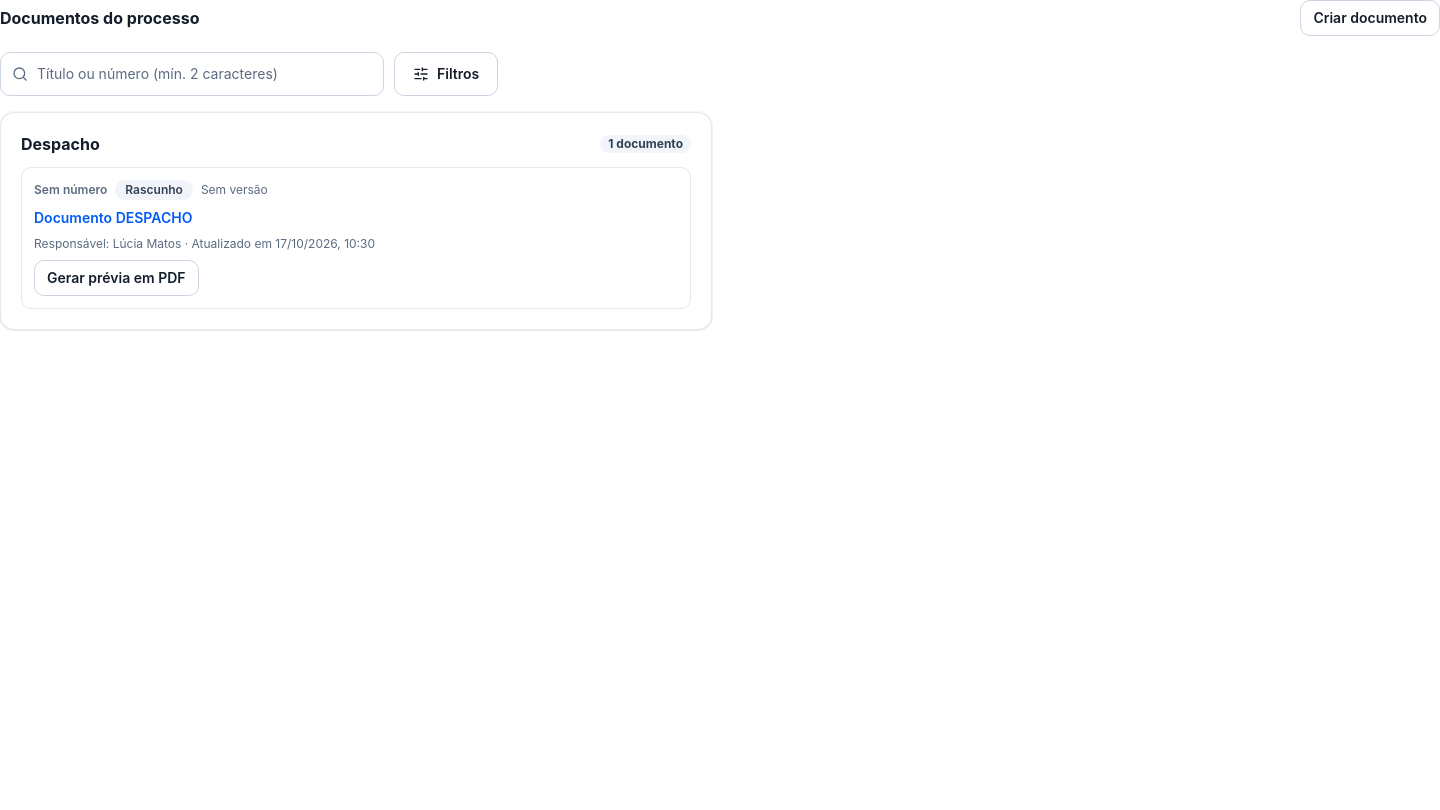
Test: SCR-006 · aba "Documentos" (US-062) › Responsivo (< 768 px): o menu "Criar documento" abre como folha inferior
The width and height of the screenshot is (1440, 810).
Check: the heading "Despacho" is shown, box top-left (21, 133), bottom-right (100, 155)
Click the button "Criar documento". click: coordinates (1370, 18)
box: top-left (1300, 0), bottom-right (1439, 36)
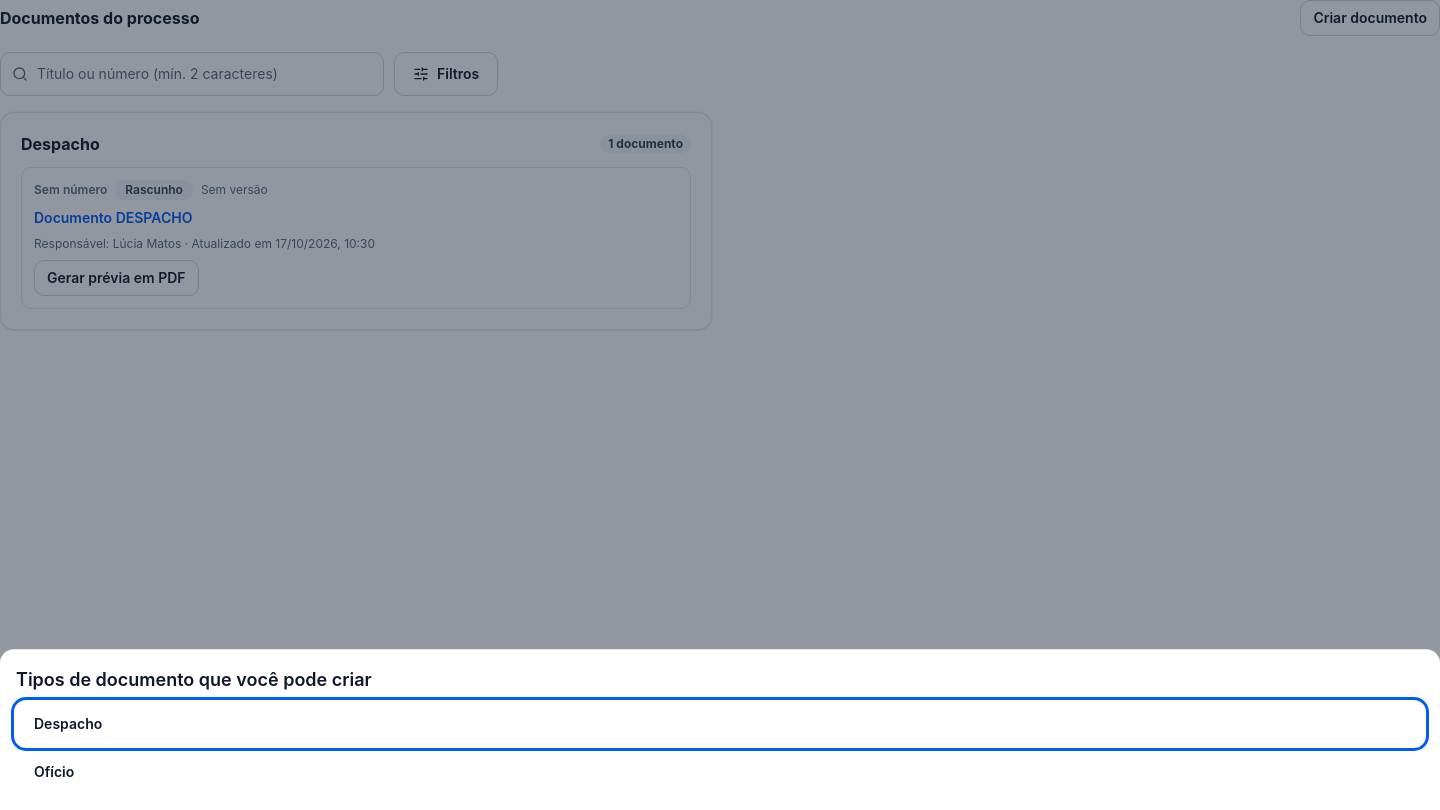
Check: the button "Ofício" is shown, box top-left (16, 750), bottom-right (1424, 794)
